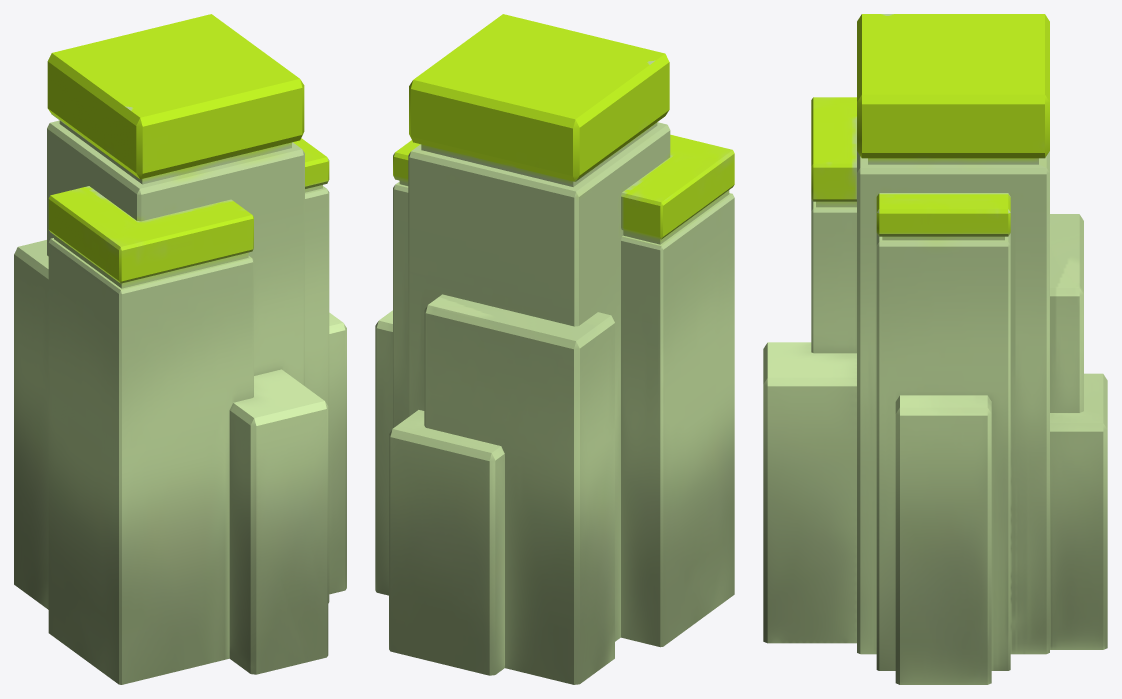
The model's file is rocks (1).fbx.
3 views of the same model, side by side, from view 1: azimuth 30°, elevation 25°; view 2: azimuth 150°, elevation 25°; view 3: azimuth 270°, elevation 25° (orthographic). The views are drawn at different scales.
Visible parts, largest first — view 1: Cube.002; view 2: Cube.002; view 3: Cube.002.
Part boxes in pixels (box(x1,y1,x2,y2)): Cube.002: box(14, 14, 346, 684); Cube.002: box(375, 14, 734, 684); Cube.002: box(763, 14, 1107, 684).
Size of the model in its own units: 294 by 562 by 315.
